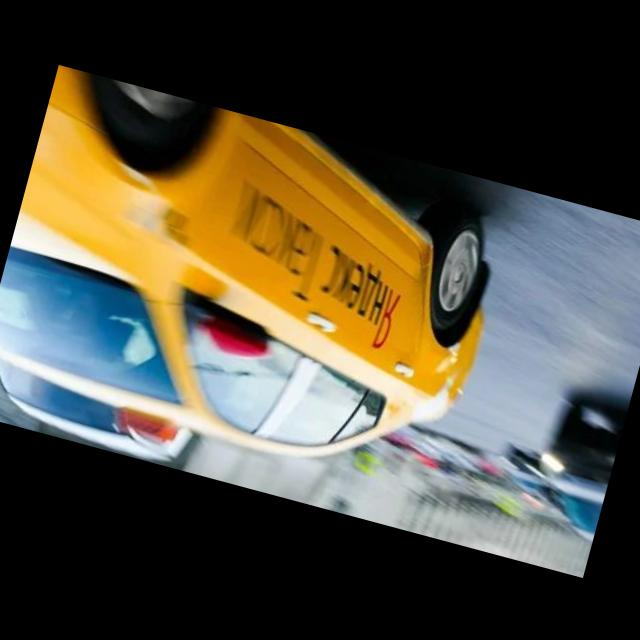taxi: (1, 64, 523, 525)
